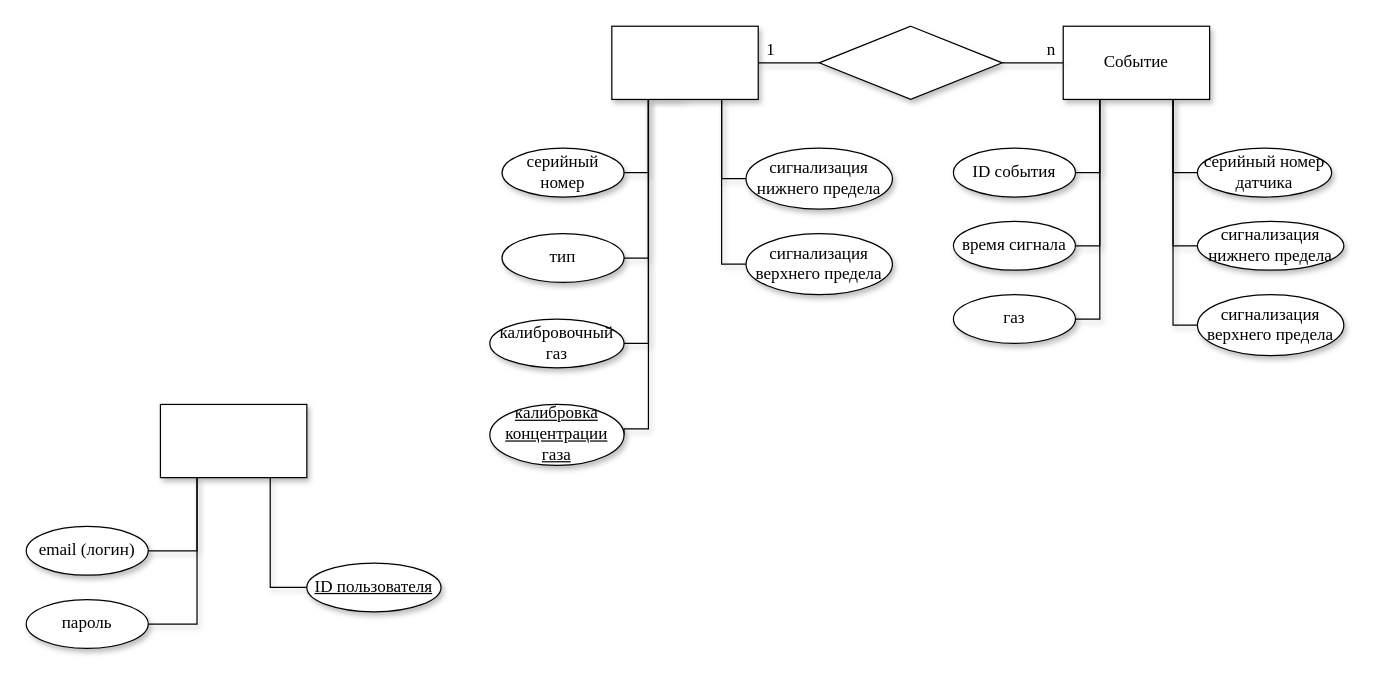
Image size: 1373x678. Some labels were removed from this diagram. Each missing label, with the centre of its shape:
"Датчик" belongs at point (686, 64).
"Пользователь" belongs at point (234, 442).
"фиксирует" belongs at point (911, 64).
